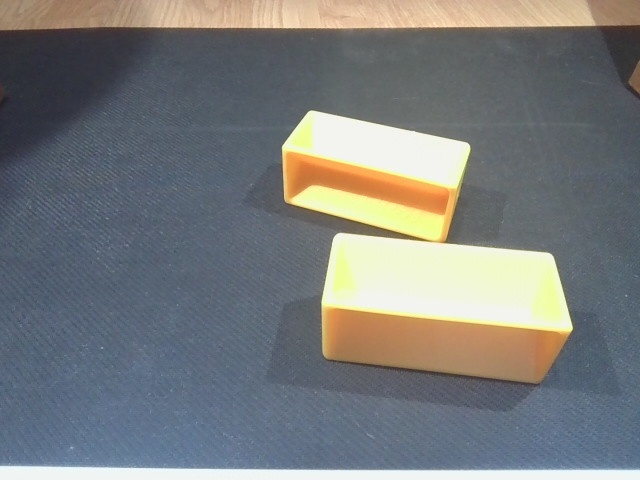YellowSample: (318, 227, 576, 388), (277, 101, 473, 245)
